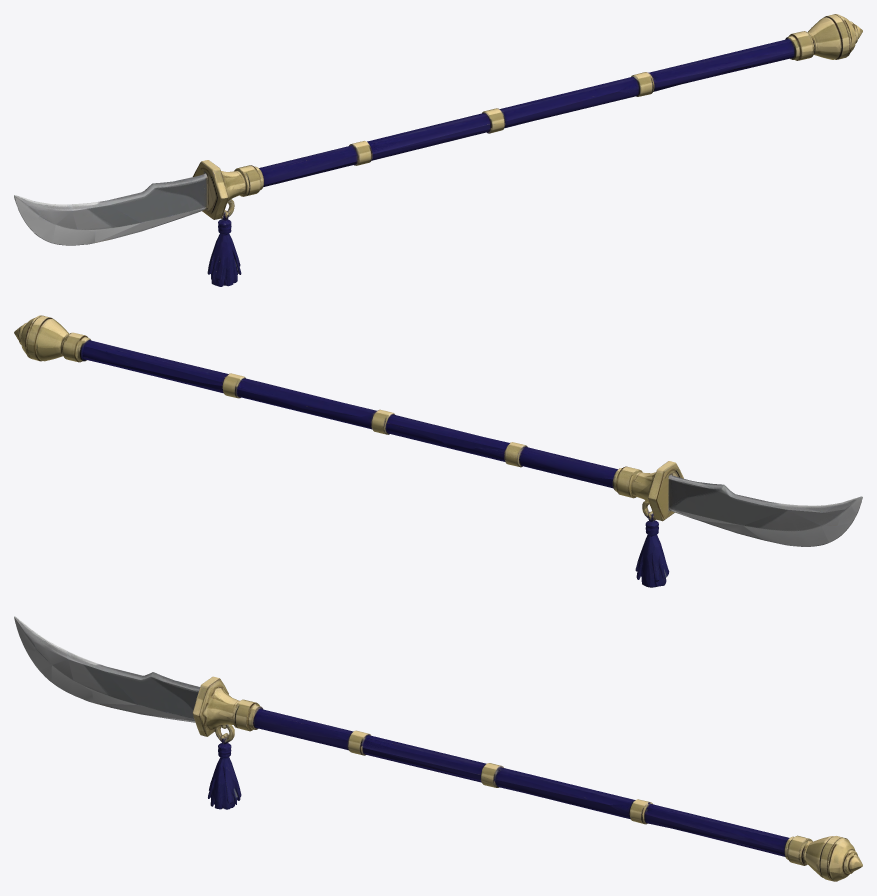
Rendered from captain-glaive.glb.
3 views of the same model, one above another, from view 1: azimuth 30°, elevation 25°; view 2: azimuth 150°, elevation 25°; view 3: azimuth 330°, elevation 25° (orthographic).
Size of the model in its own units: 1.9 by 0.2982 by 0.1132.
1 material, 1 textured.
